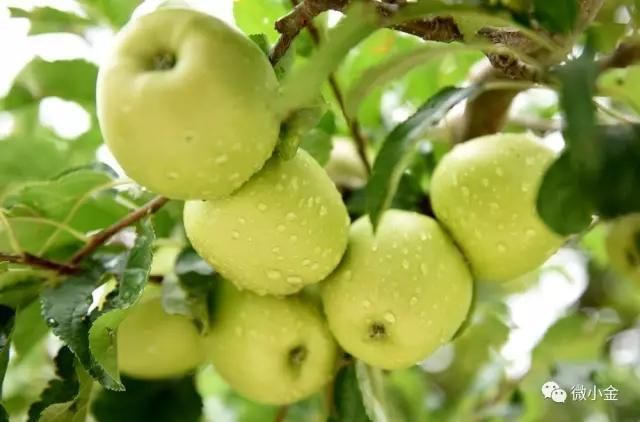apple: (95, 9, 283, 198), (181, 144, 351, 298), (317, 202, 474, 368), (429, 130, 567, 285), (203, 284, 341, 403)
